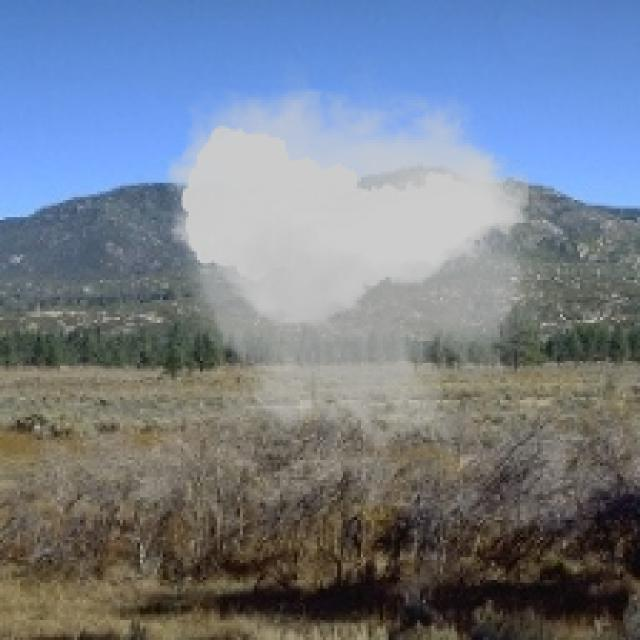smoke: (155, 57, 554, 474)
